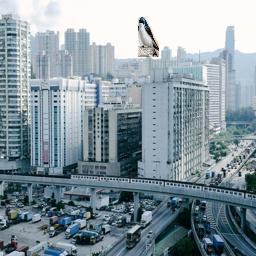Swallow: (138, 17, 159, 57)
